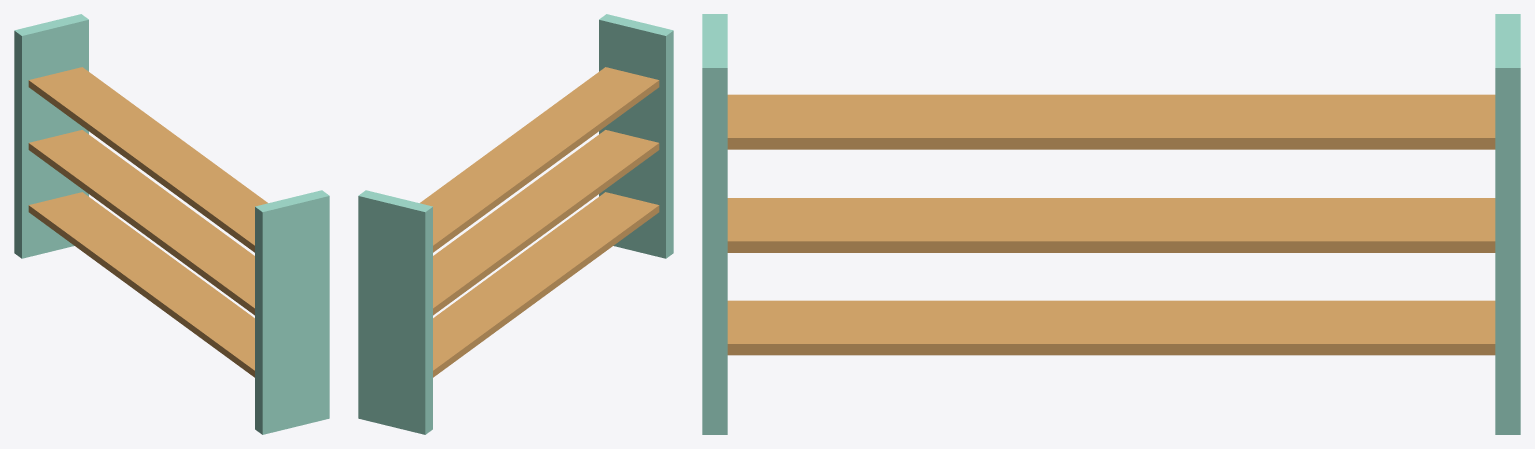
File: Rack1.fbx
3 renders of one model, left to right at view 1: azimuth 30°, elevation 25°; view 2: azimuth 150°, elevation 25°; view 3: azimuth 270°, elevation 25°, orthographic. The views are drawn at different scales.
Parts seen in each view (by area): view 1: Cube.005; view 2: Cube.005; view 3: Cube.005.
Part boxes in pixels (x1,y1,x2,y2): Cube.005: (14, 14, 329, 434); Cube.005: (358, 14, 673, 434); Cube.005: (702, 14, 1520, 434).
Bounding box in the file's own units: 56.35 × 178 × 361.
